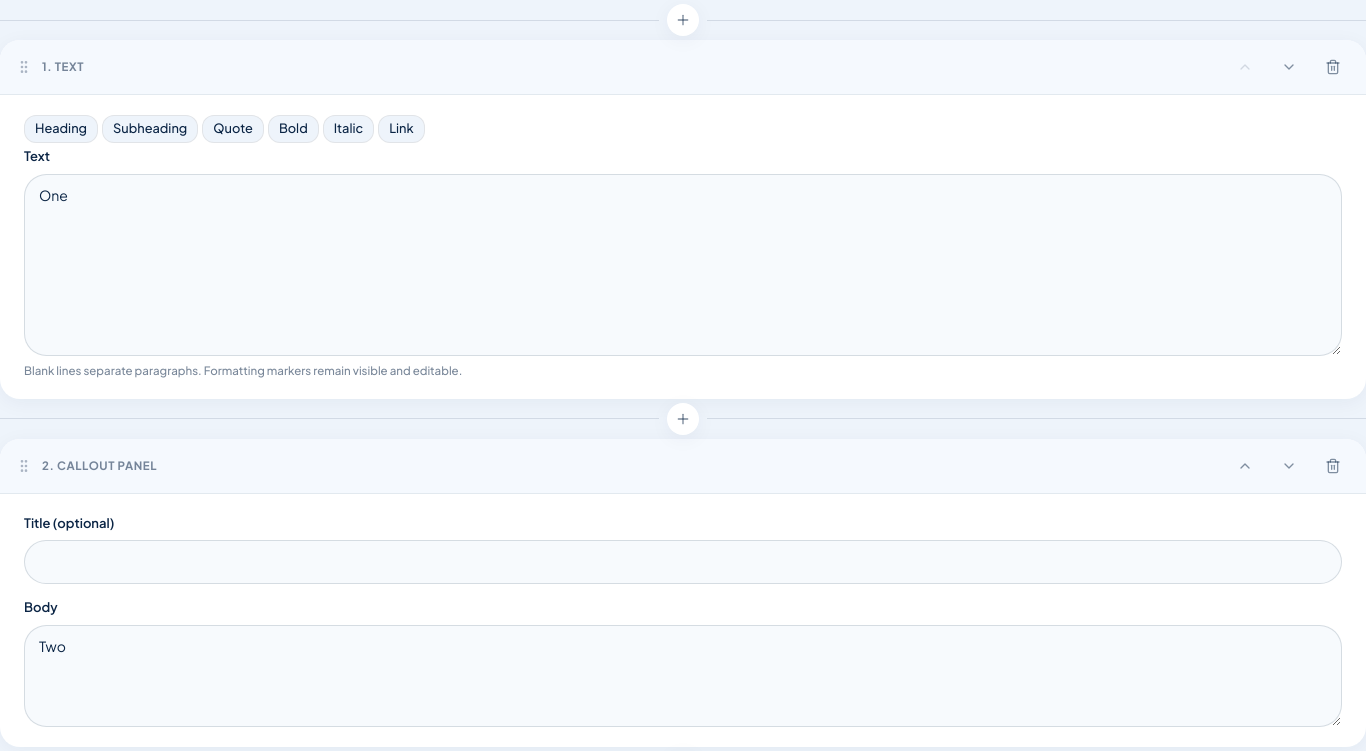
Test case: delete removes immediately and undo restores the original index
The width and height of the screenshot is (1366, 751).
Click the button named "Delete section 2".
click(1333, 466)  # box [1316,449,1350,483]
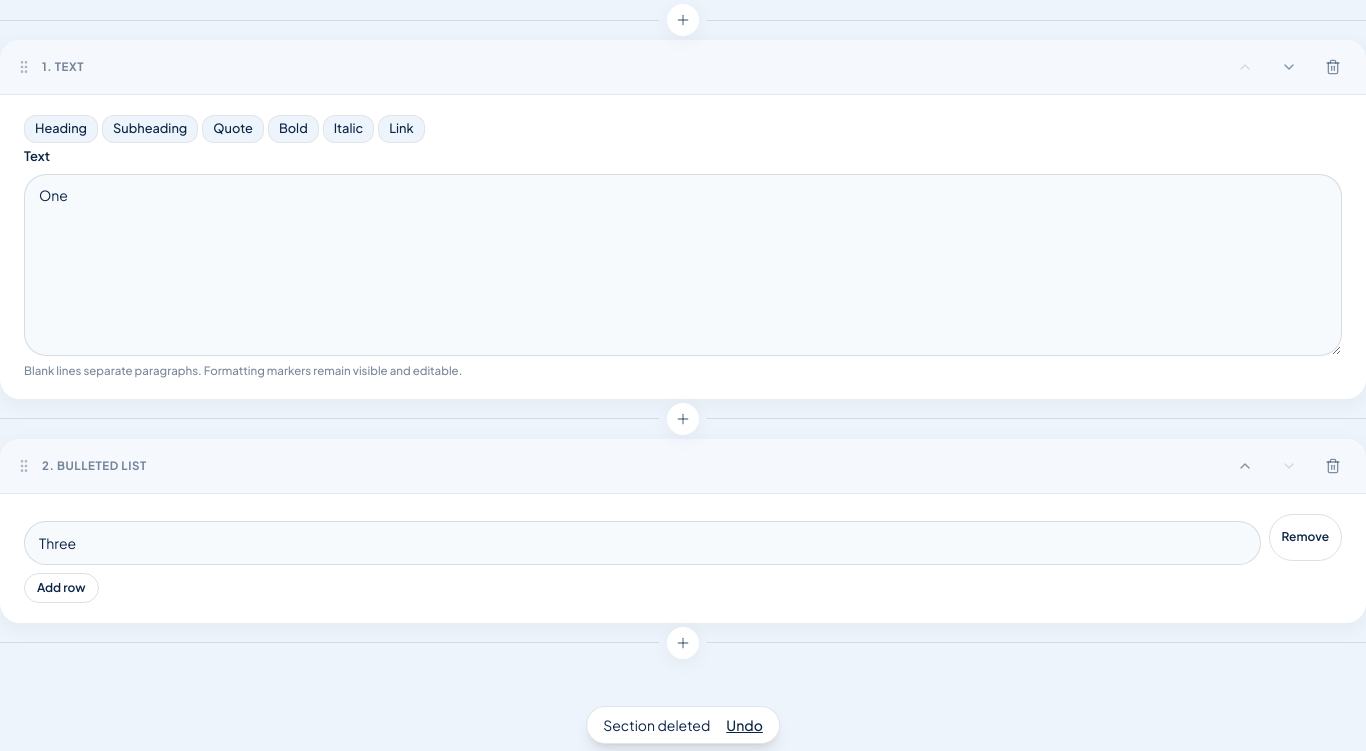
Click the button "Undo".
click(745, 725)  # box [726,715,763,735]
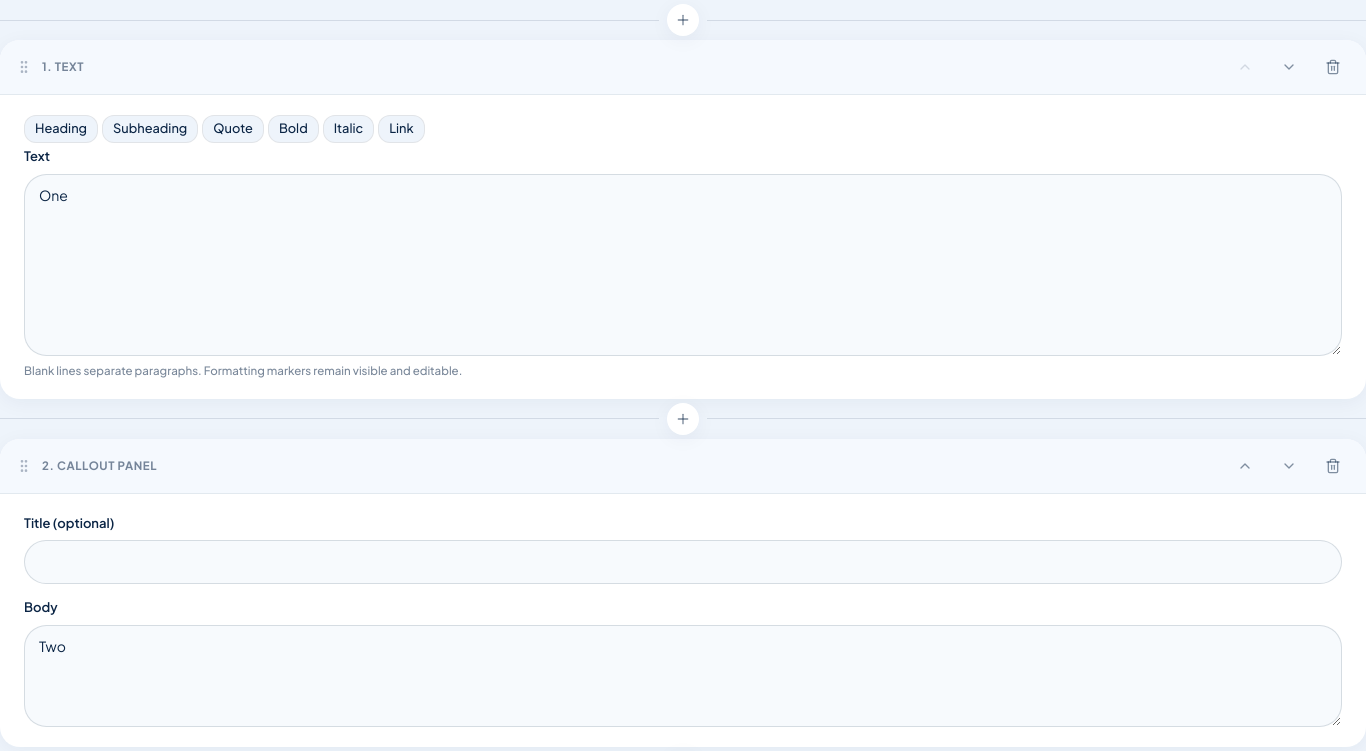
Check: the button "Undo" is gone
